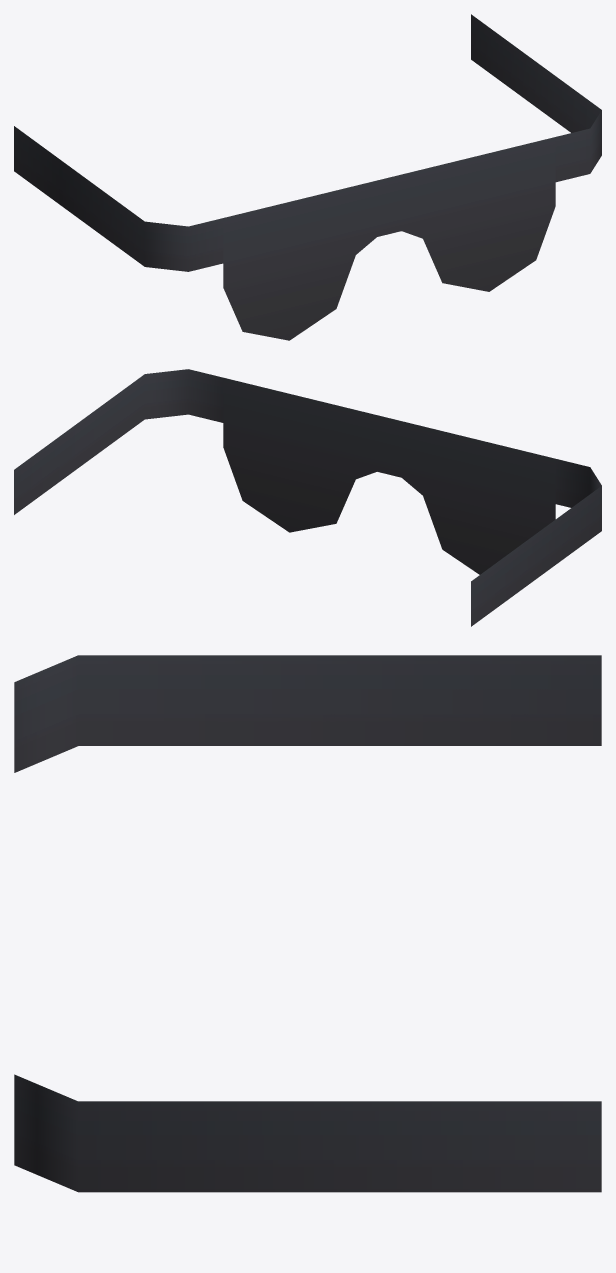
The model's file is kenney-mini-characters-aid.glb.
3 views of the same model, one above another, from view 1: azimuth 30°, elevation 25°; view 2: azimuth 150°, elevation 25°; view 3: azimuth 270°, elevation 25° (orthographic). The views are drawn at different scales.
Visible parts, largest first — view 1: aid-sunglasses; view 2: aid-sunglasses; view 3: aid-sunglasses.
Boxes of the visible parts, bbox=[...] form: aid-sunglasses: bbox=[14, 14, 601, 340]; aid-sunglasses: bbox=[14, 369, 601, 626]; aid-sunglasses: bbox=[14, 655, 601, 1192].
Size of the model in its own units: 0.33 by 0.0958 by 0.1836.
1 material, 1 textured.
